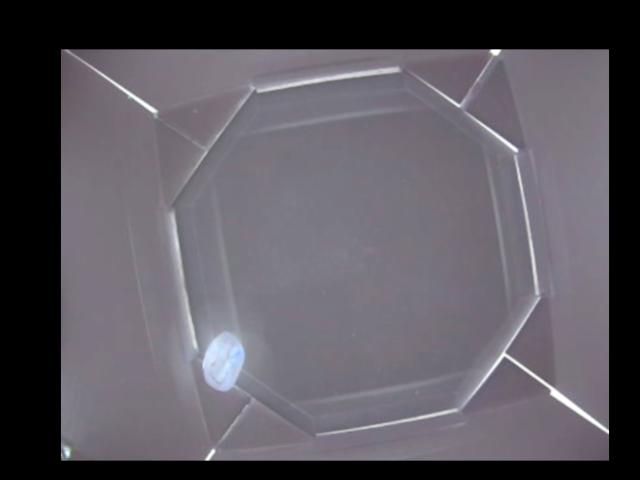Pebble: (202, 331, 244, 390)
